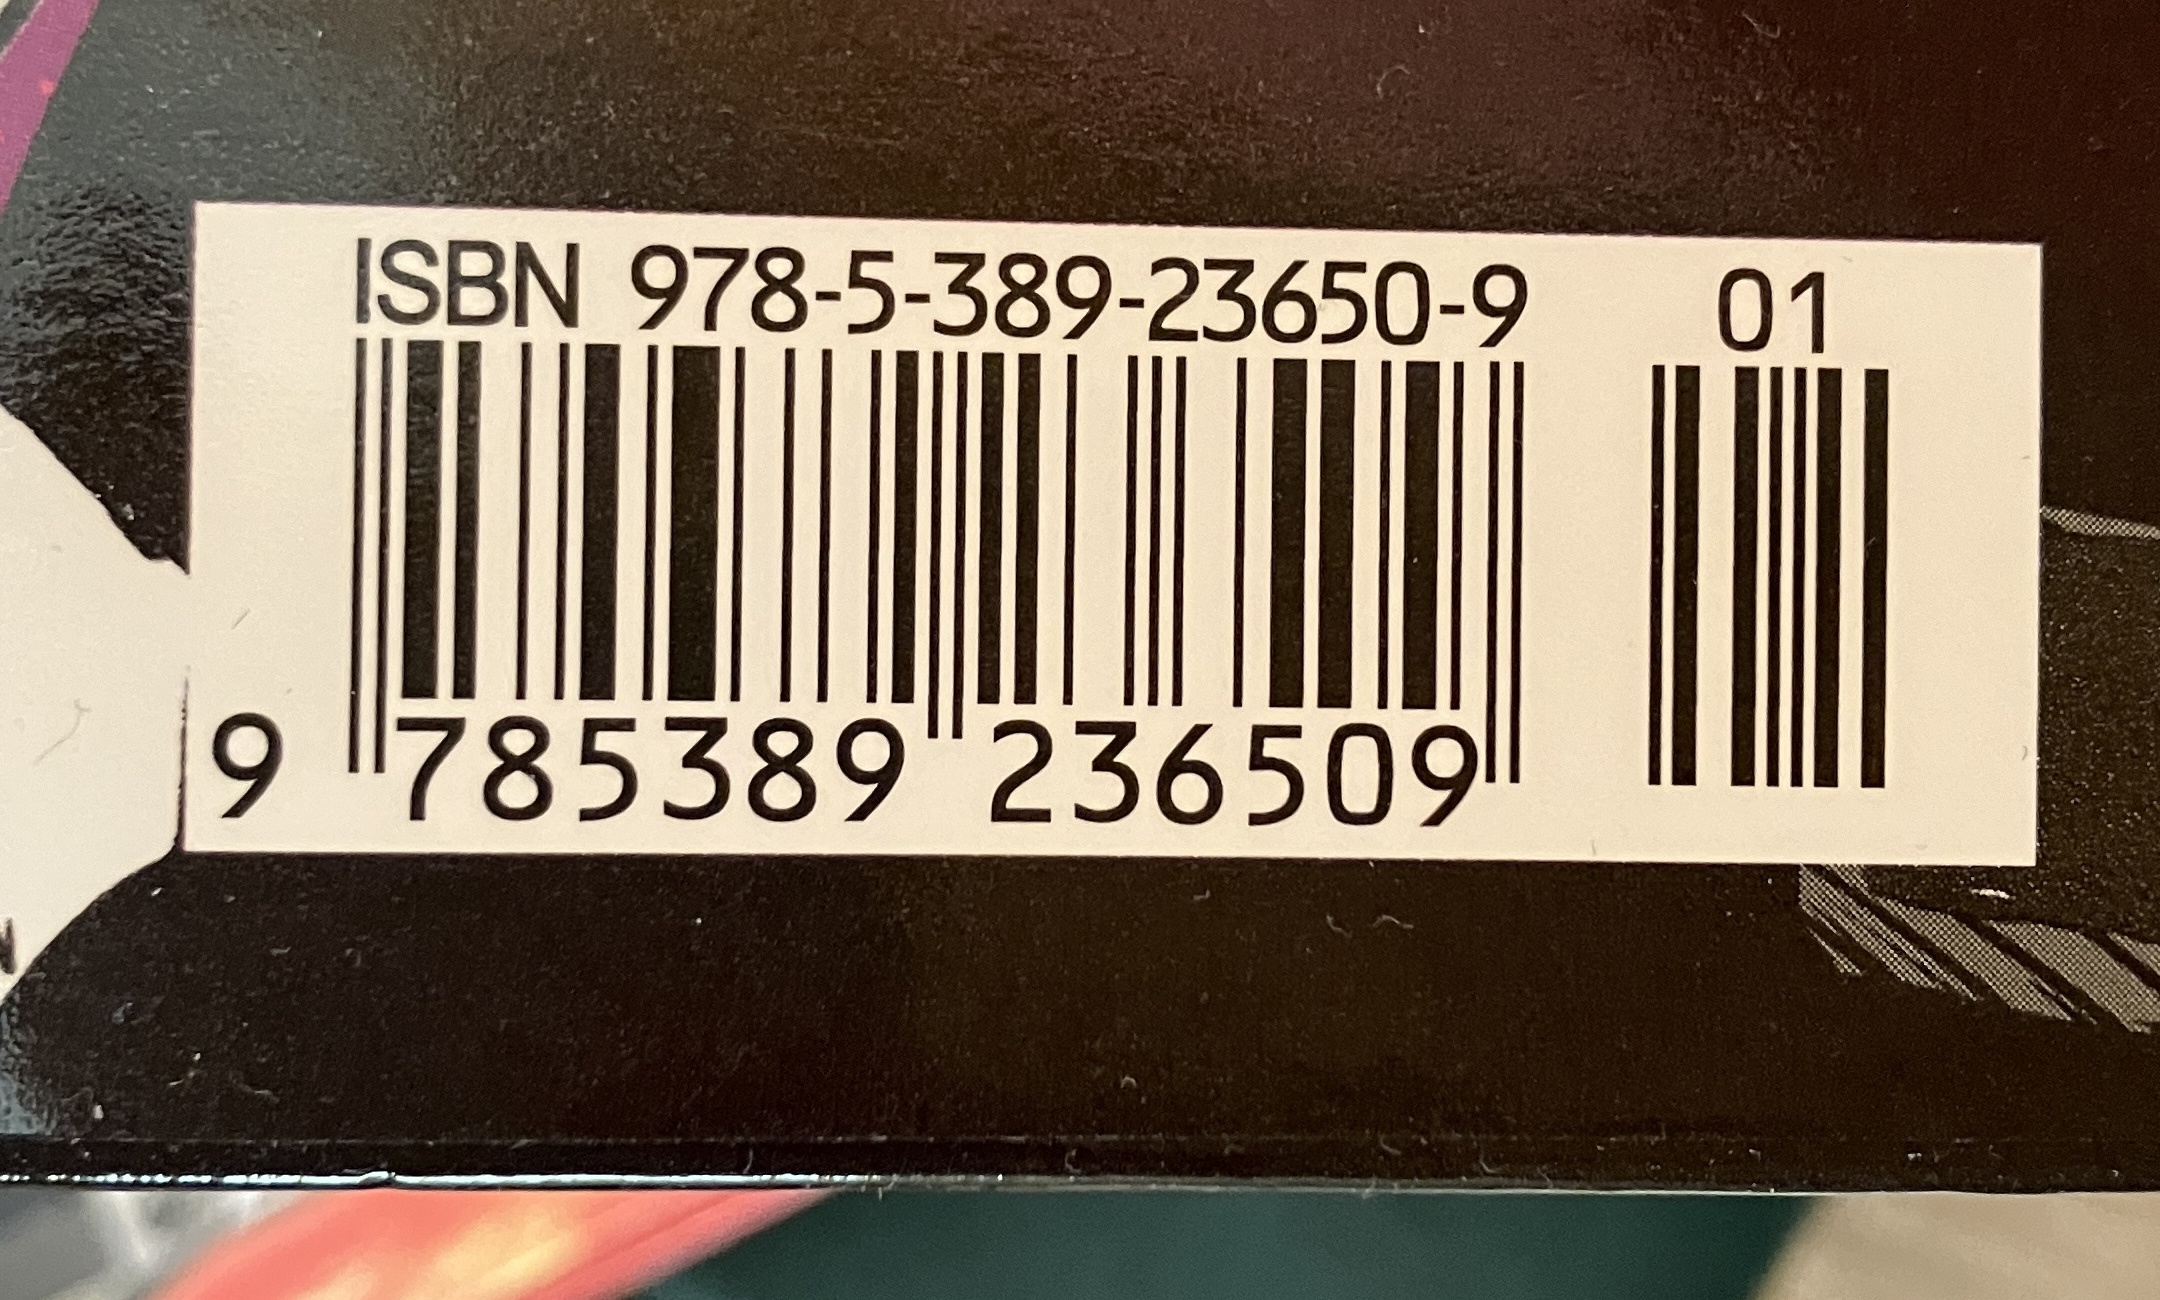1d: (352, 338, 1524, 777)
